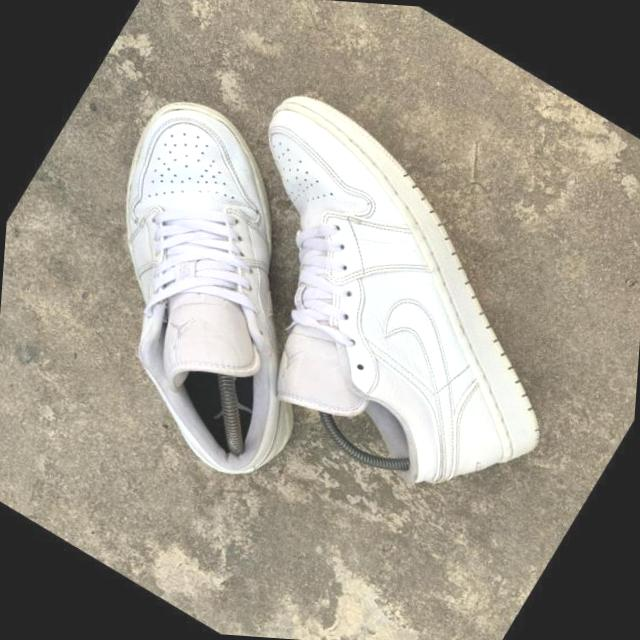nike_original_airforce: (124, 58, 640, 537), (1, 70, 427, 504)
